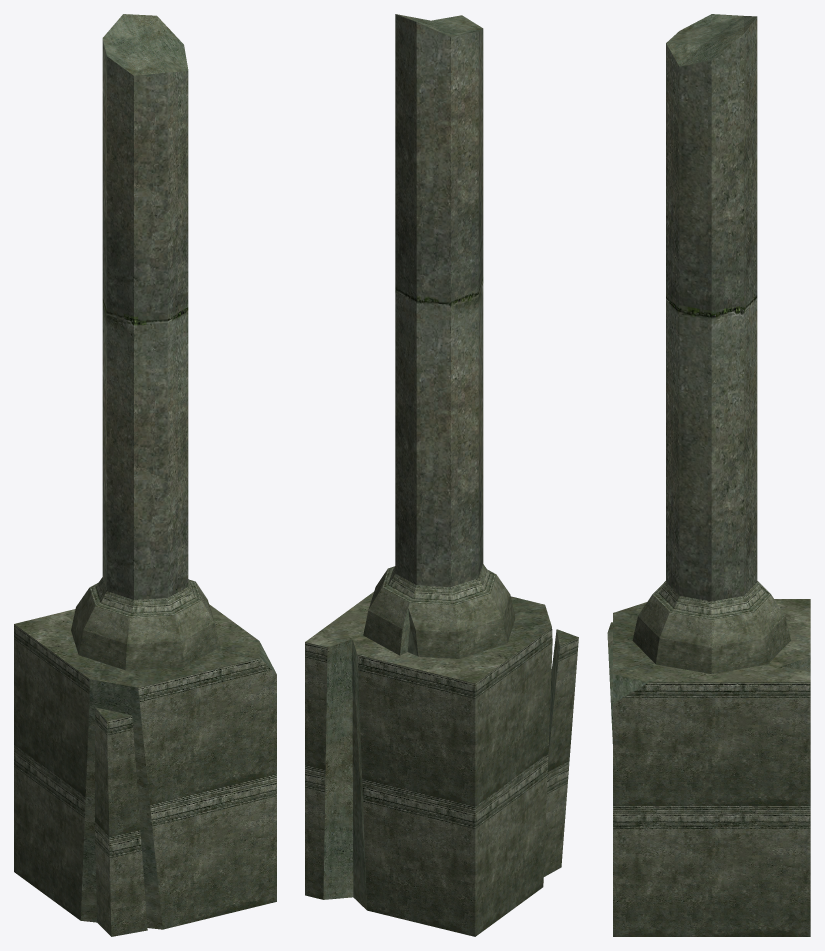
File: thm_dant_jedi_temple_pillar_med_l0.fbx
The picture shows the model from 3 angles, left to right: view 1: azimuth 30°, elevation 25°; view 2: azimuth 150°, elevation 25°; view 3: azimuth 270°, elevation 25°; orthographic projection. The views are drawn at different scales.
Parts seen in each view (by area): view 1: mesh_node; view 2: mesh_node; view 3: mesh_node.
Part boxes in pixels (x1=…): mesh_node: x1=14, y1=14, x2=276, y2=936; mesh_node: x1=305, y1=14, x2=578, y2=936; mesh_node: x1=607, y1=14, x2=810, y2=936.
Bounding box in the file's own units: 2.05 × 9.83 × 2.06.
